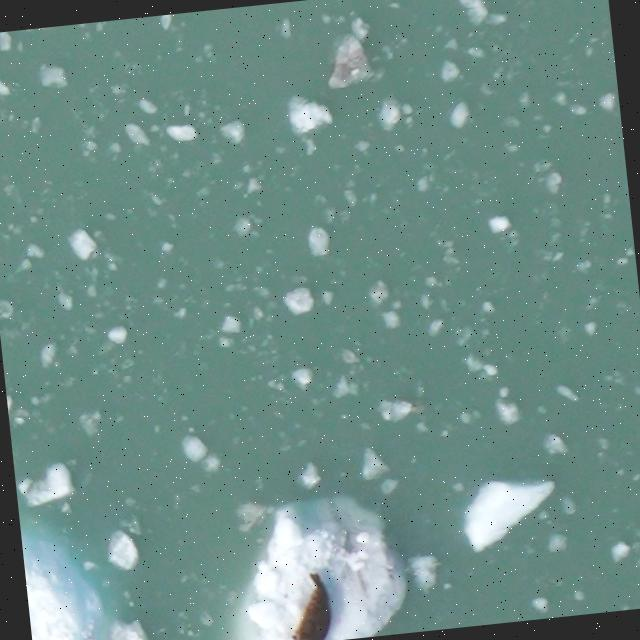seal: (282, 565, 340, 640)
